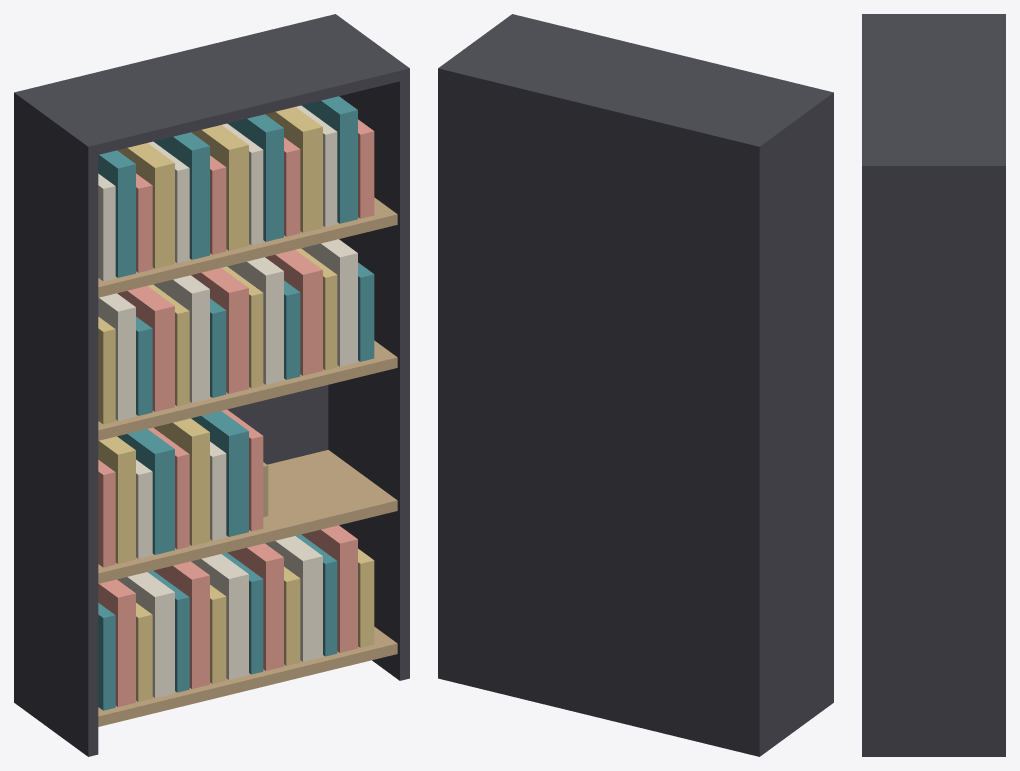
Rendered from bb_set_bookcase.fbx.
The picture shows the model from 3 angles, left to right: view 1: azimuth 30°, elevation 25°; view 2: azimuth 150°, elevation 25°; view 3: azimuth 270°, elevation 25°; orthographic projection. The views are drawn at different scales.
Visible parts, largest first — view 1: bb_set_bookcase; view 2: bb_set_bookcase; view 3: bb_set_bookcase.
Boxes of the visible parts, x1,y1,x2,y2 form: bb_set_bookcase: [14, 14, 409, 756]; bb_set_bookcase: [438, 14, 833, 756]; bb_set_bookcase: [862, 14, 1005, 756].
Bounding box in the file's own units: 0.8 × 1.45 × 0.32.
